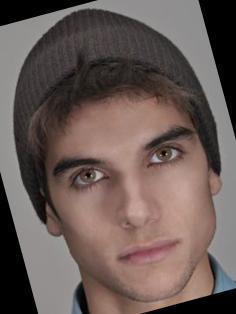Sober: (56, 111, 206, 273)
